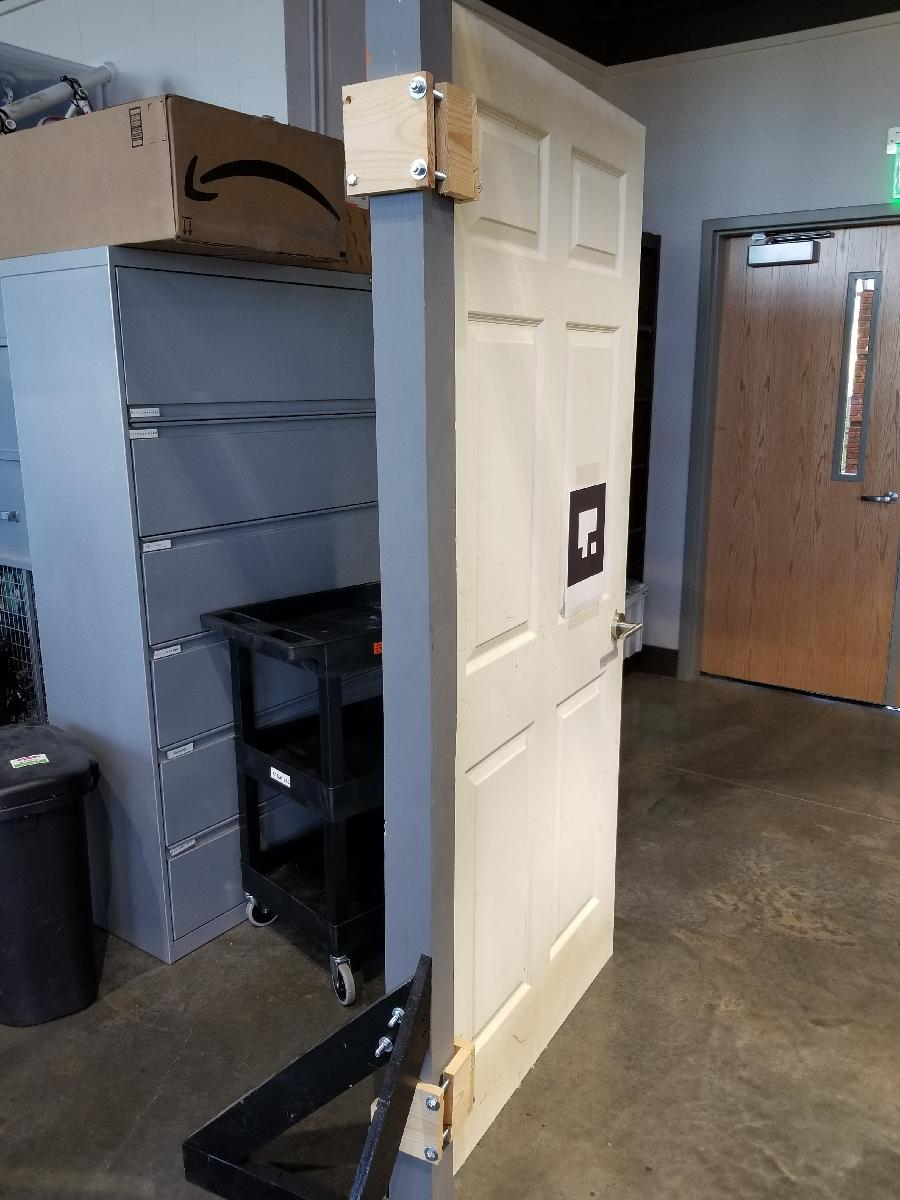door: (445, 4, 651, 1200)
doorHandle: (603, 618, 649, 654)
